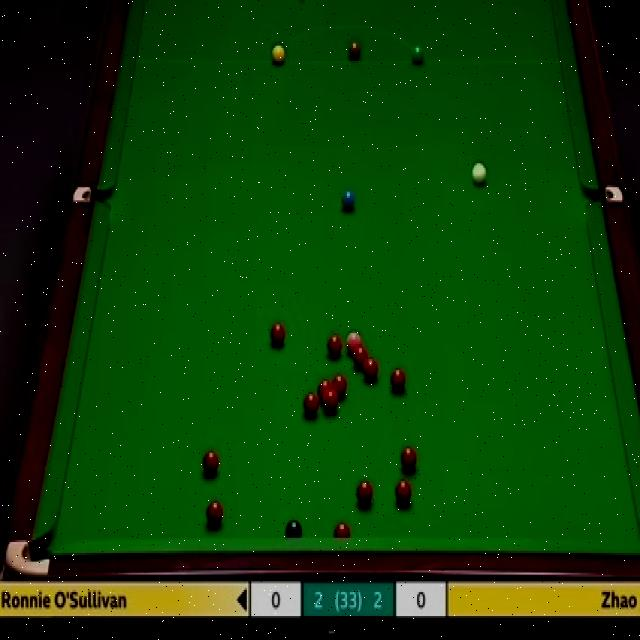black-ball: (285, 520, 304, 537)
blue-ball: (341, 190, 356, 209)
brown-ball: (349, 41, 361, 60)
green-ball: (410, 42, 426, 66)
pink-ball: (346, 331, 362, 353)
red-ball: (399, 446, 418, 474), (357, 478, 374, 508), (395, 480, 412, 506), (324, 335, 343, 358), (201, 450, 220, 473), (333, 372, 352, 395), (206, 502, 223, 527), (390, 367, 407, 392), (361, 356, 378, 380), (270, 319, 286, 344), (303, 391, 318, 417), (318, 379, 333, 400), (324, 389, 338, 411), (353, 344, 368, 364), (332, 522, 352, 536)
white-ball: (471, 162, 488, 183)
yellow-ball: (272, 44, 285, 66)
